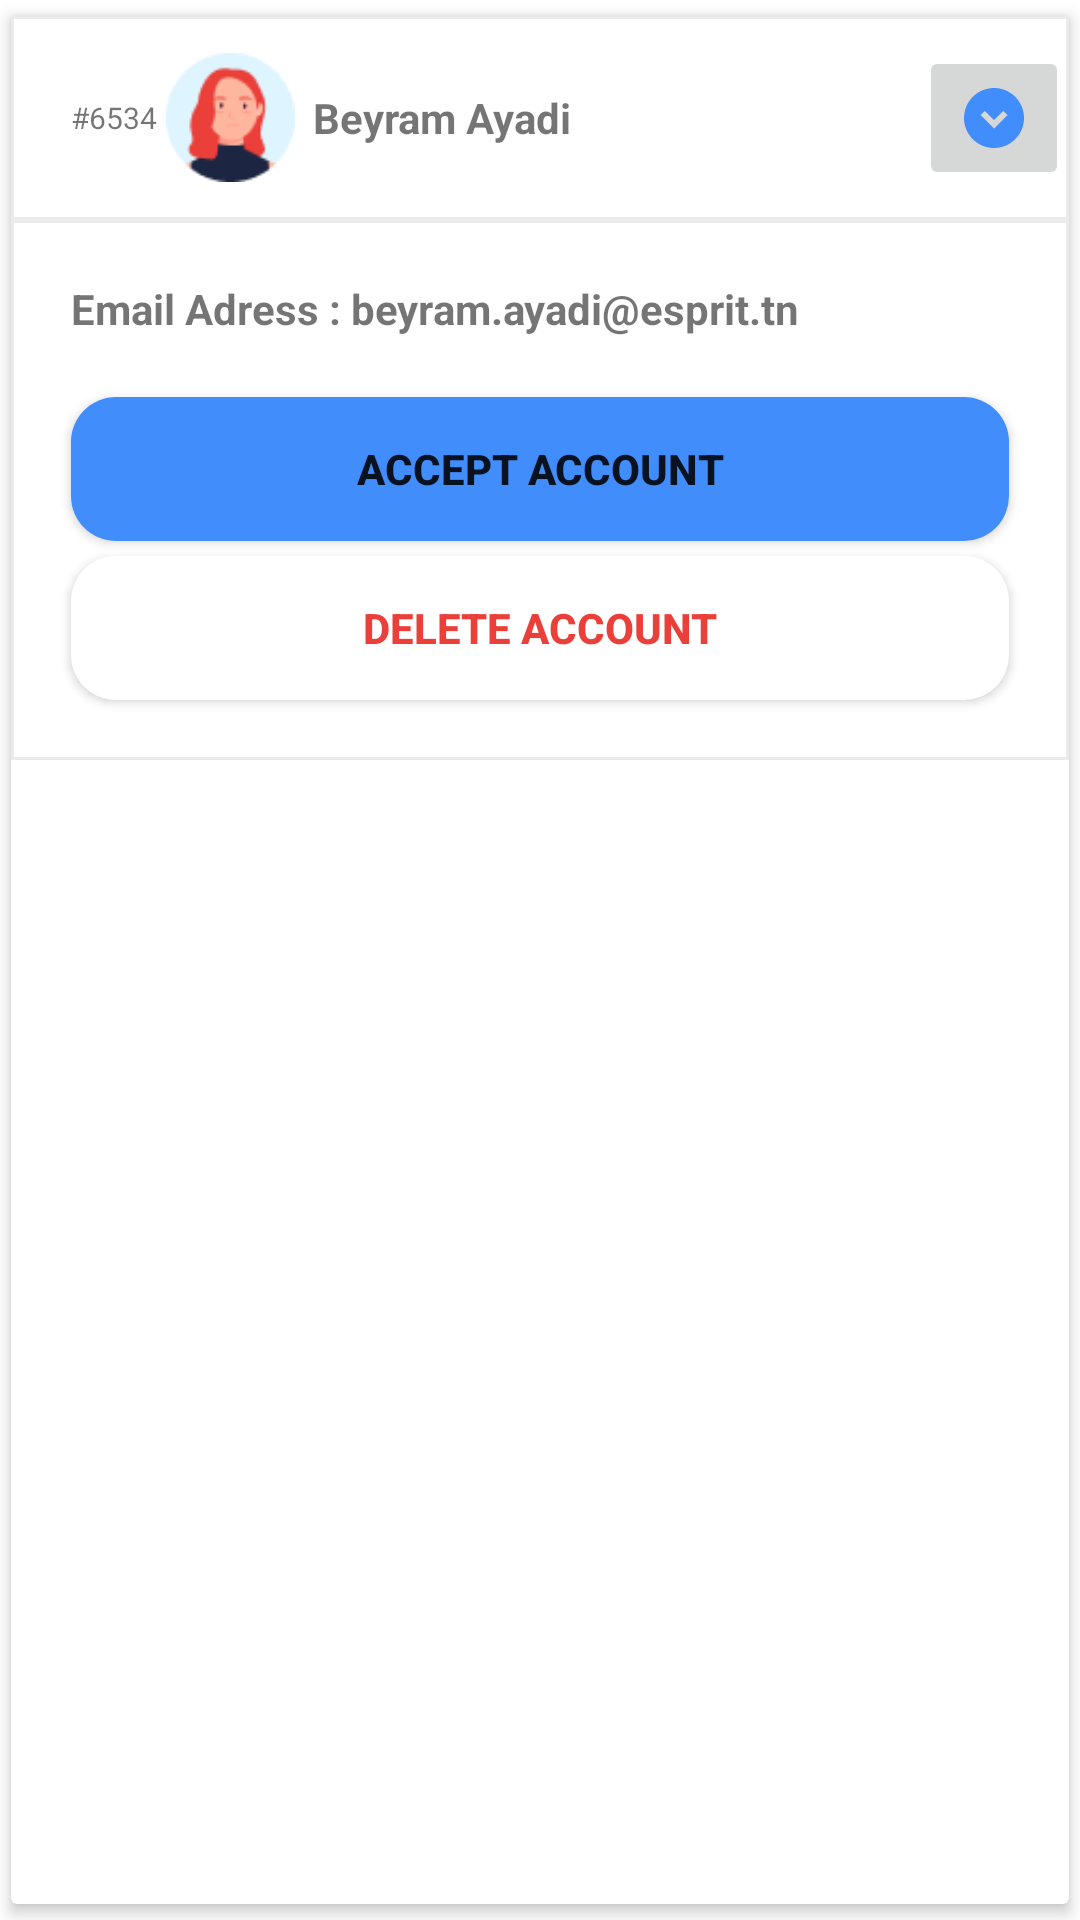

Screen size 1080×1920. Icon name, then its center in pixels as (x=x, y=y):
expand circle down: (x=994, y=118)
